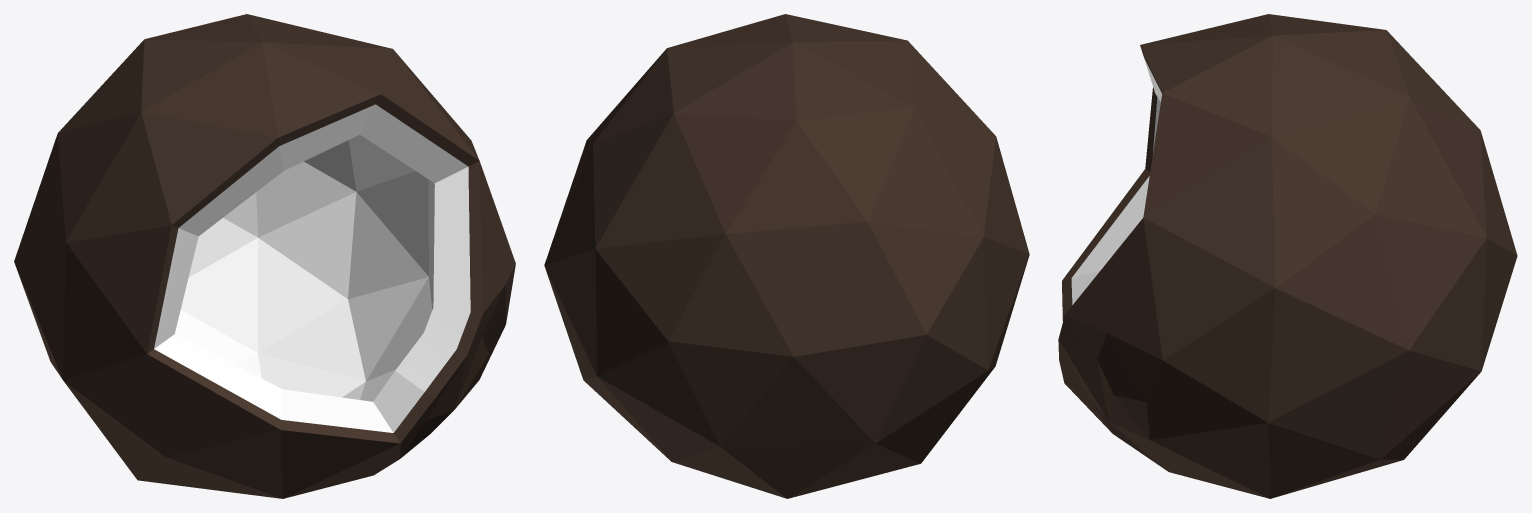
The model's file is Coconut_0.glb.
The picture shows the model from 3 angles, left to right: view 1: azimuth 30°, elevation 25°; view 2: azimuth 150°, elevation 25°; view 3: azimuth 270°, elevation 25°; orthographic projection. The views are drawn at different scales.
Parts seen in each view (by area): view 1: Coconut_0; view 2: Coconut_0; view 3: Coconut_0.
Part boxes in pixels (x1,y1,x2,y2): Coconut_0: [14, 14, 515, 498]; Coconut_0: [544, 14, 1029, 498]; Coconut_0: [1058, 14, 1517, 498].
Size of the model in its own units: 0.1912 by 0.2014 by 0.186.
Materials: 1 (1 with a texture image).
